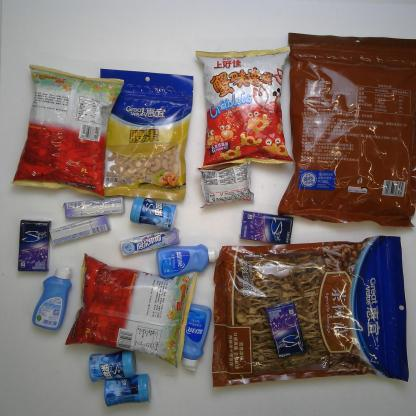Candy: (49, 214, 112, 245), (119, 228, 181, 257), (64, 196, 126, 219)
Dessert: (197, 161, 254, 209)
Dried Food: (212, 236, 409, 386), (276, 31, 416, 229)
Dried Fruit: (98, 68, 195, 202)
Gum: (266, 301, 306, 359), (240, 210, 294, 245), (17, 218, 51, 272), (130, 196, 179, 232), (88, 348, 137, 384), (103, 374, 152, 408)
Personal Hygiene: (31, 266, 74, 331), (155, 243, 220, 279), (180, 303, 212, 371)
Puffed Food: (65, 252, 198, 371), (10, 65, 124, 200), (196, 46, 294, 171)
